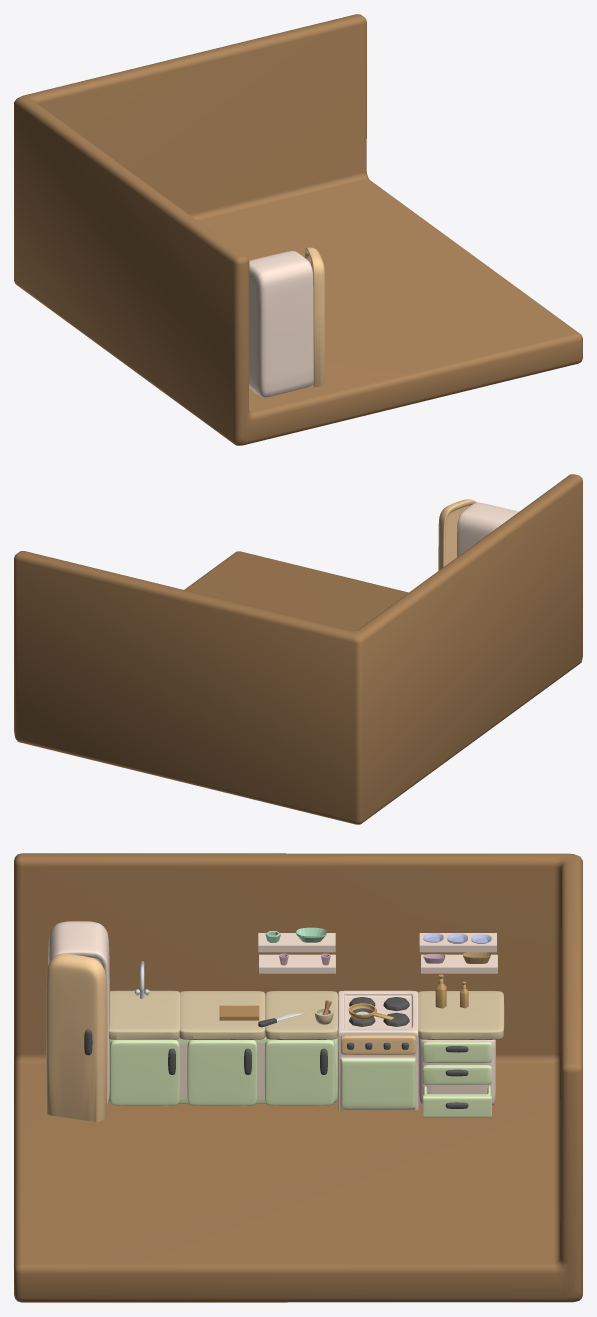
File: m_mutfak_.fbx
3 views of the same model, one above another, from view 1: azimuth 30°, elevation 25°; view 2: azimuth 150°, elevation 25°; view 3: azimuth 270°, elevation 25° (orthographic). The views are drawn at different scales.
Parts seen in each view (by area): view 1: Cube.002, Cube.001; view 2: Cube.002, Cube.001; view 3: Cube.002, Cube.001.
Part boxes in pixels (x1,y1,x2,y2): Cube.002: (14, 14, 582, 445); Cube.001: (249, 247, 324, 397); Cube.002: (14, 474, 582, 824); Cube.001: (438, 499, 518, 570); Cube.002: (14, 853, 582, 1302); Cube.001: (46, 921, 504, 1121).
Size of the model in its own units: 265 by 137 by 296.
